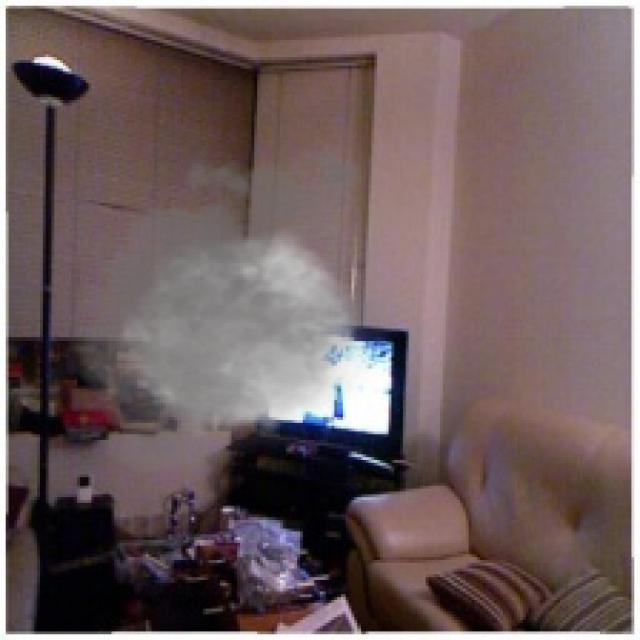smoke: (51, 140, 423, 486)
